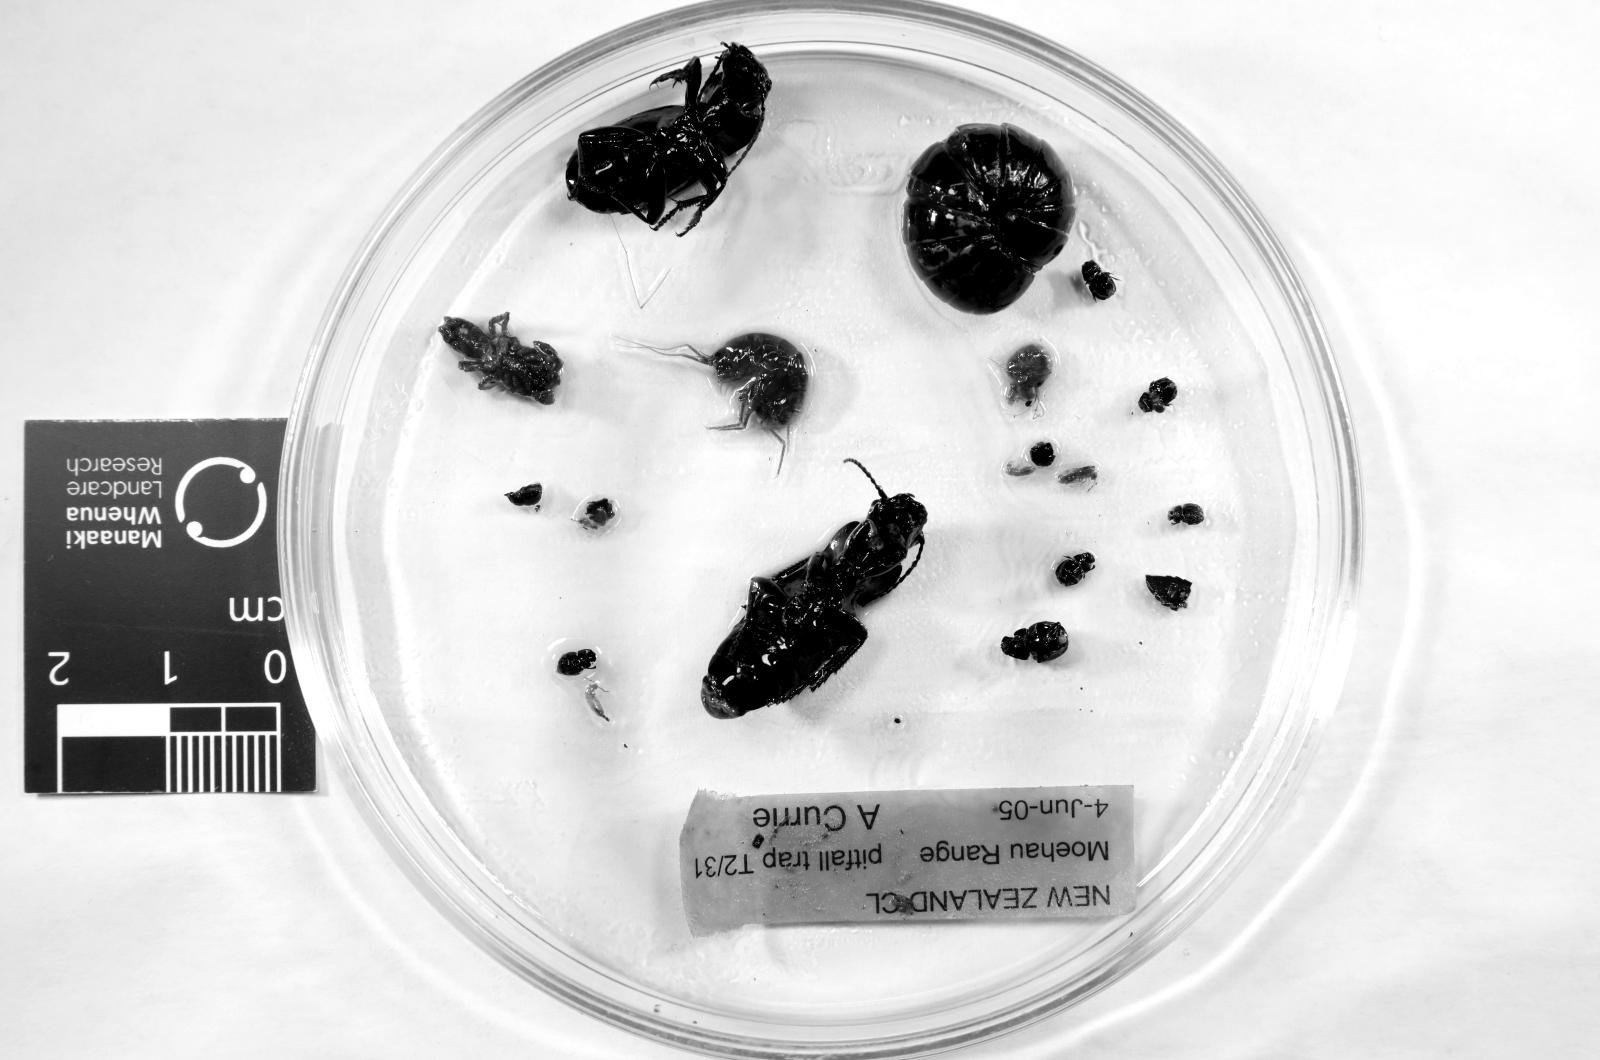amphipoda: (650, 332, 809, 472)
araneae: (441, 314, 563, 403)
carabidae: (700, 485, 928, 720), (565, 44, 772, 230)
coleoptera: (1000, 621, 1069, 661), (1081, 260, 1115, 302), (1138, 379, 1178, 413), (1056, 552, 1094, 587), (556, 649, 597, 677), (1168, 503, 1206, 525), (506, 485, 540, 506)
collembola: (584, 680, 609, 724)
isopoda: (903, 124, 1075, 314)
